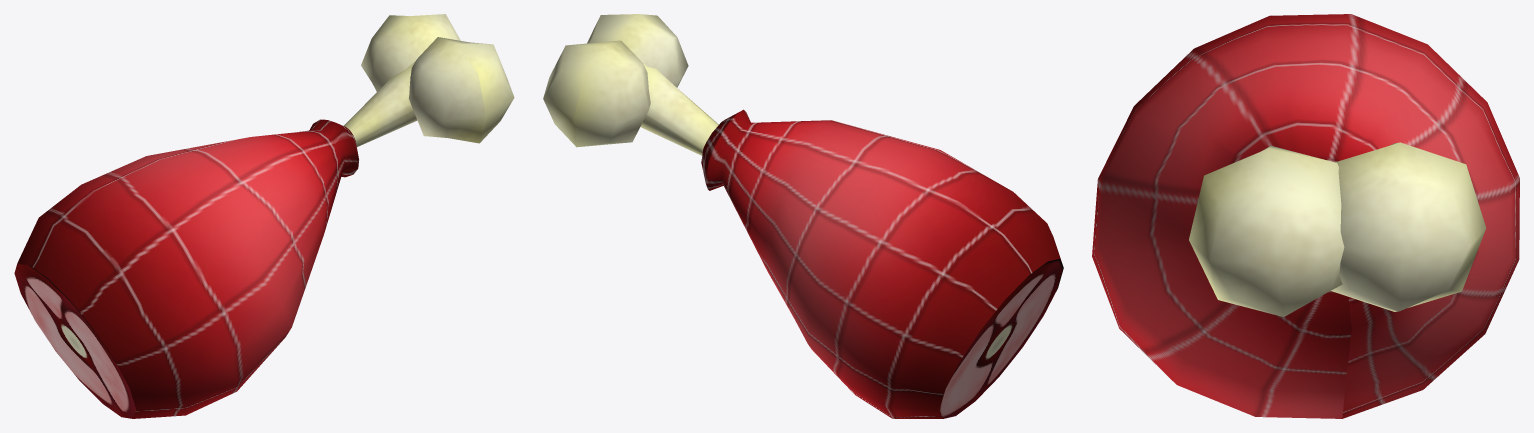
Rendered from meet.FBX.
3 views of the same model, side by side, from view 1: azimuth 30°, elevation 25°; view 2: azimuth 150°, elevation 25°; view 3: azimuth 270°, elevation 25° (orthographic). The views are drawn at different scales.
Visible parts, largest first — view 1: meet; view 2: meet; view 3: meet.
Part boxes in pixels (x1,y1,x2,y2): meet: (14,14,514,418); meet: (543,14,1063,418); meet: (1092,14,1519,418).
Size of the model in its own units: 170 by 107 by 84.55.
Materials: 1 (1 with a texture image).
